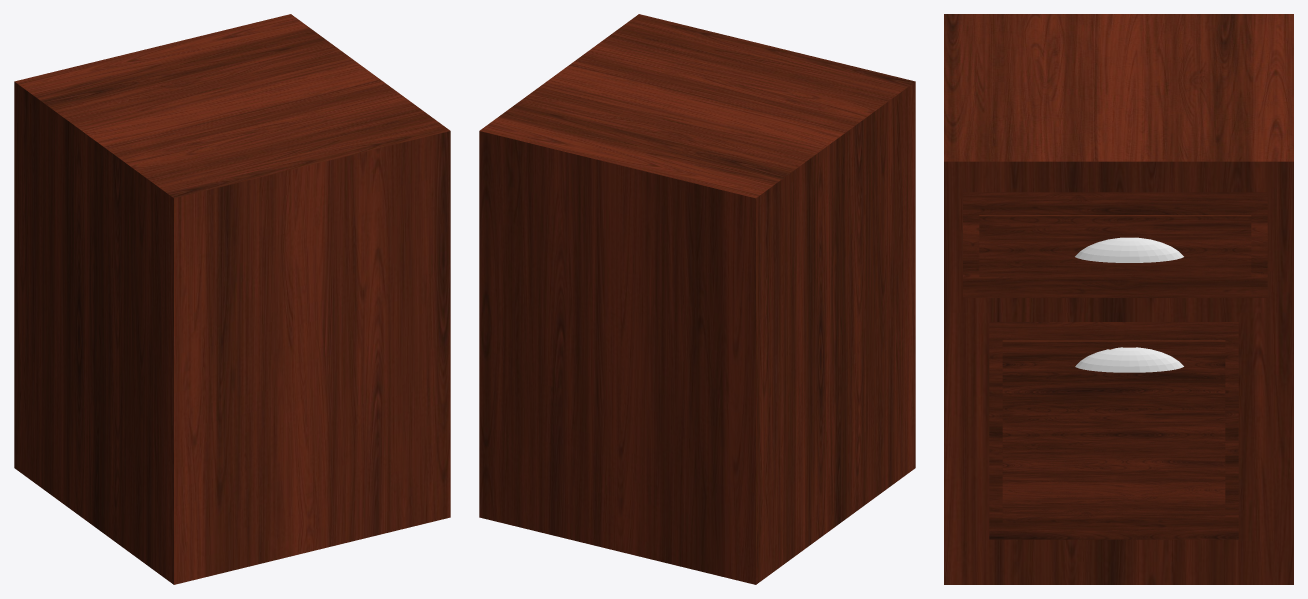
Rendered from cabinet.fbx.
3 renders of one model, left to right at view 1: azimuth 30°, elevation 25°; view 2: azimuth 150°, elevation 25°; view 3: azimuth 270°, elevation 25°, orthographic. The views are drawn at different scales.
Visible parts, largest first — view 1: Cube; view 2: Cube; view 3: Cube.
Boxes of the visible parts, x1,y1,x2,y2 form: Cube: [14, 14, 450, 584]; Cube: [479, 14, 915, 584]; Cube: [944, 14, 1293, 584].
Size of the model in its own units: 148 by 189 by 141.
Materials: 2 (1 with a texture image).
